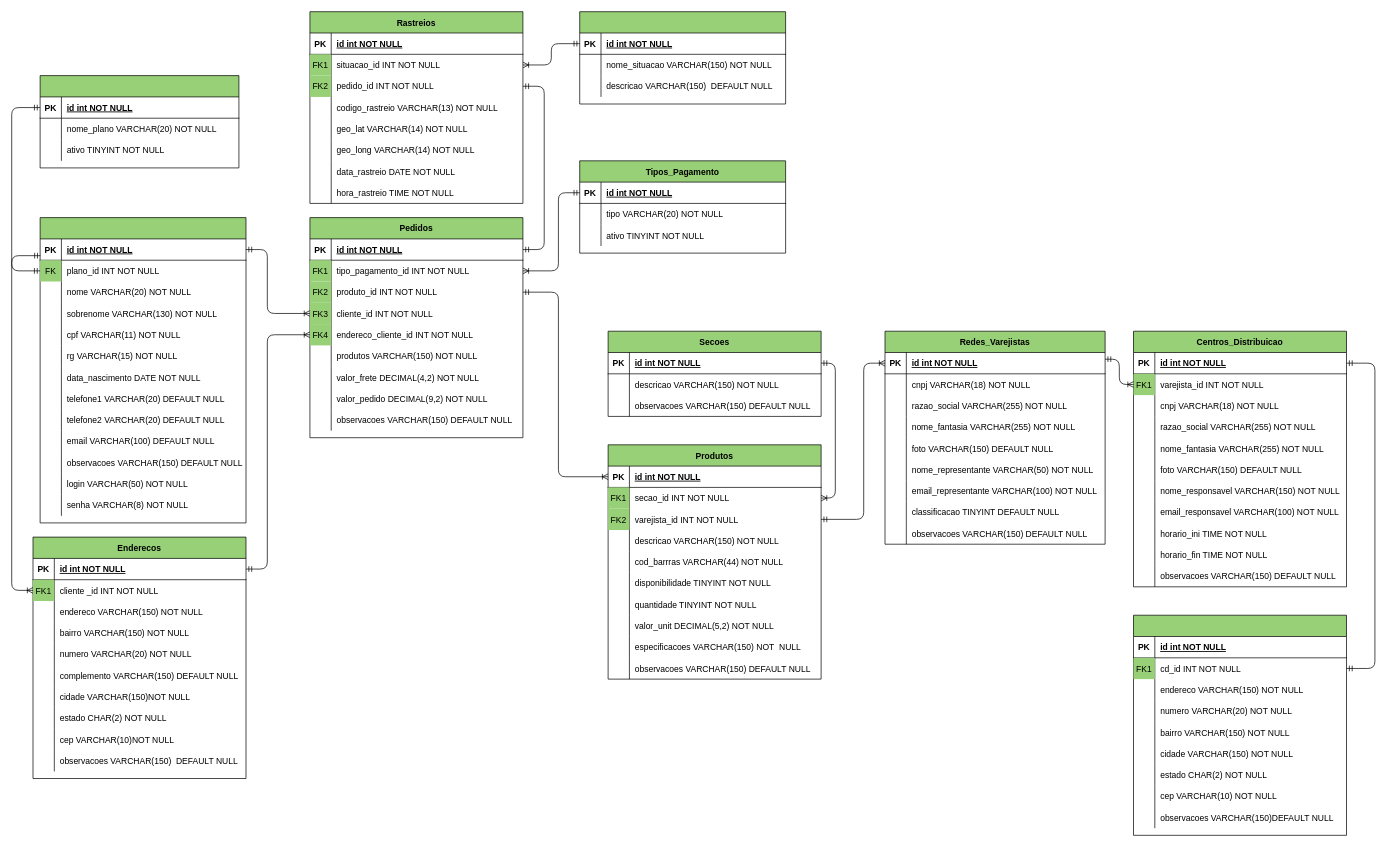
Some shapes in this 1387 by 847 pixel diagram are drawn without their labels. Here are the shapes that lost their labels. From the top down, the box of each, then its label:
(579, 11, 786, 104): Situacoes
(39, 75, 239, 168): Planos
(39, 217, 246, 523): Clientes
(1133, 615, 1347, 835): Enderecos_CD
